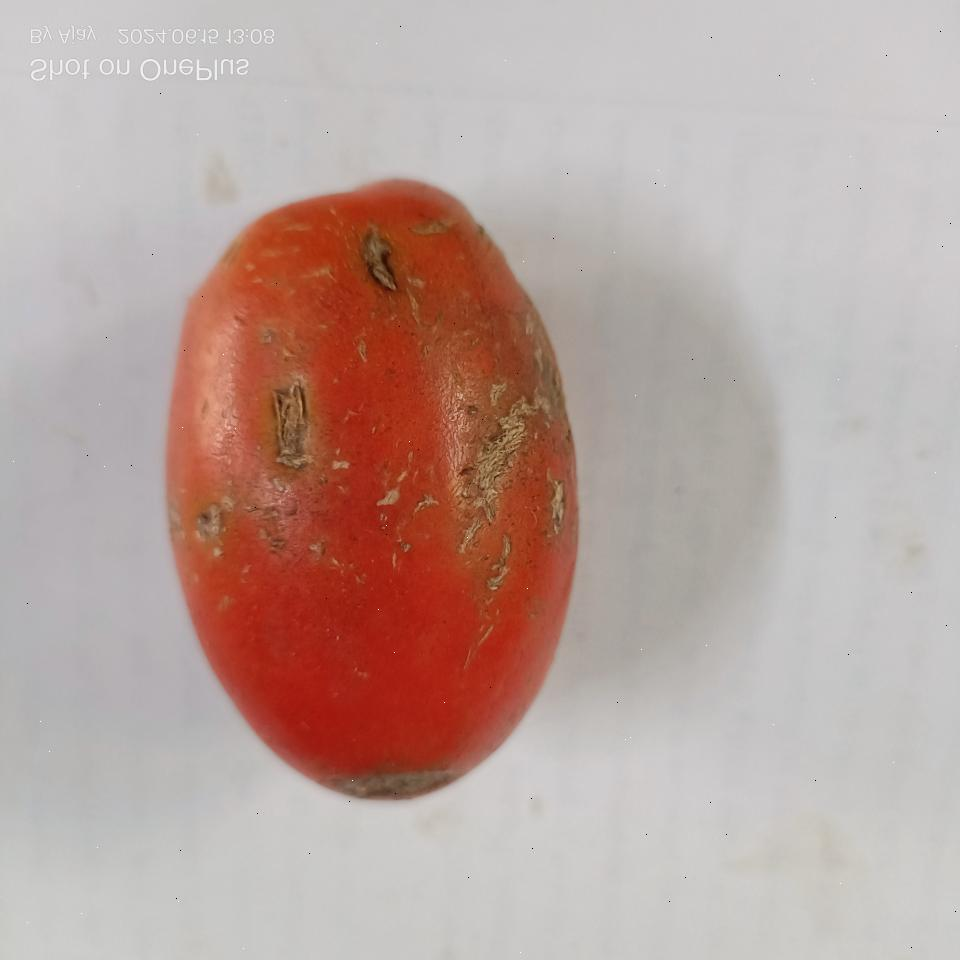Bacterial_Spot: (430, 387, 550, 582), (271, 378, 313, 470), (358, 230, 404, 300), (194, 508, 236, 546), (366, 482, 372, 486)
